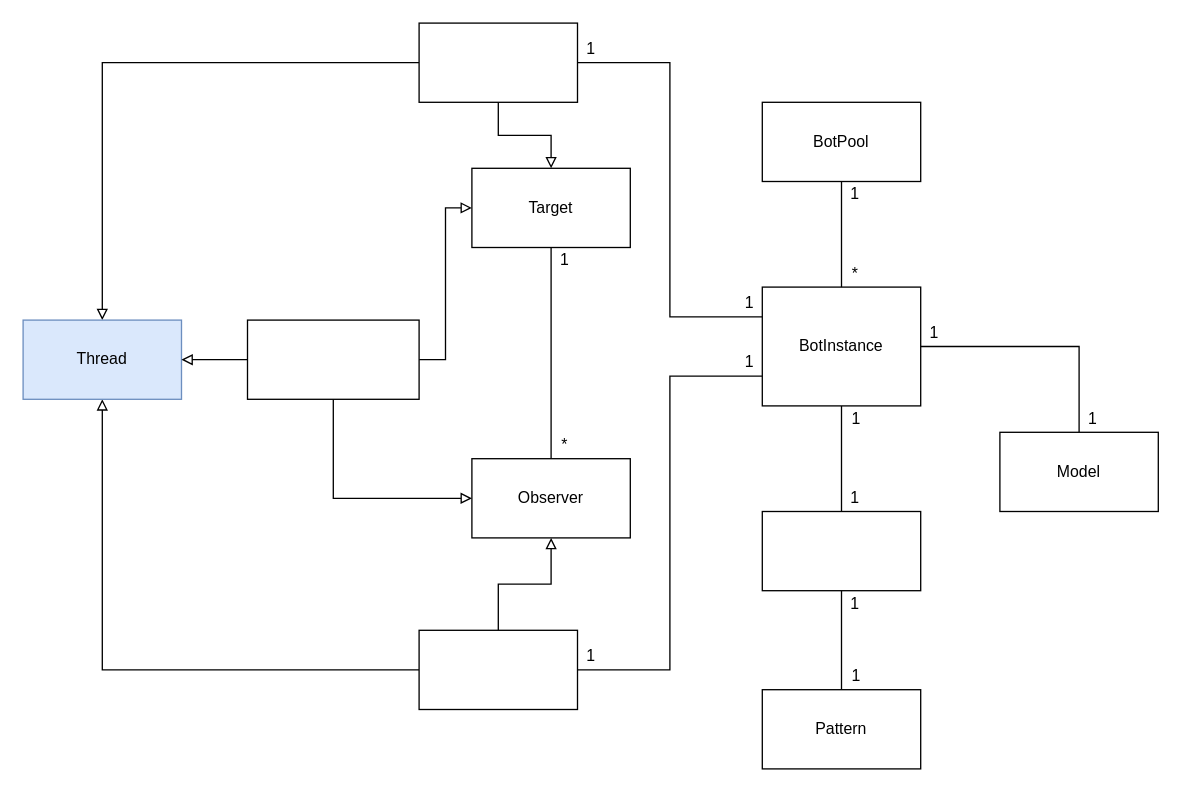
Some shapes in this 1181 by 792 pixel diagram are drawn without their labels. Here are the shapes that lost their labels. From the top down, the centre of each, then its label:
At point 498,62: "ModelUpdater".
At point 332,359: "ParametersUpdater".
At point 841,550: "Indicator".
At point 498,669: "IndicatorIngestor".
